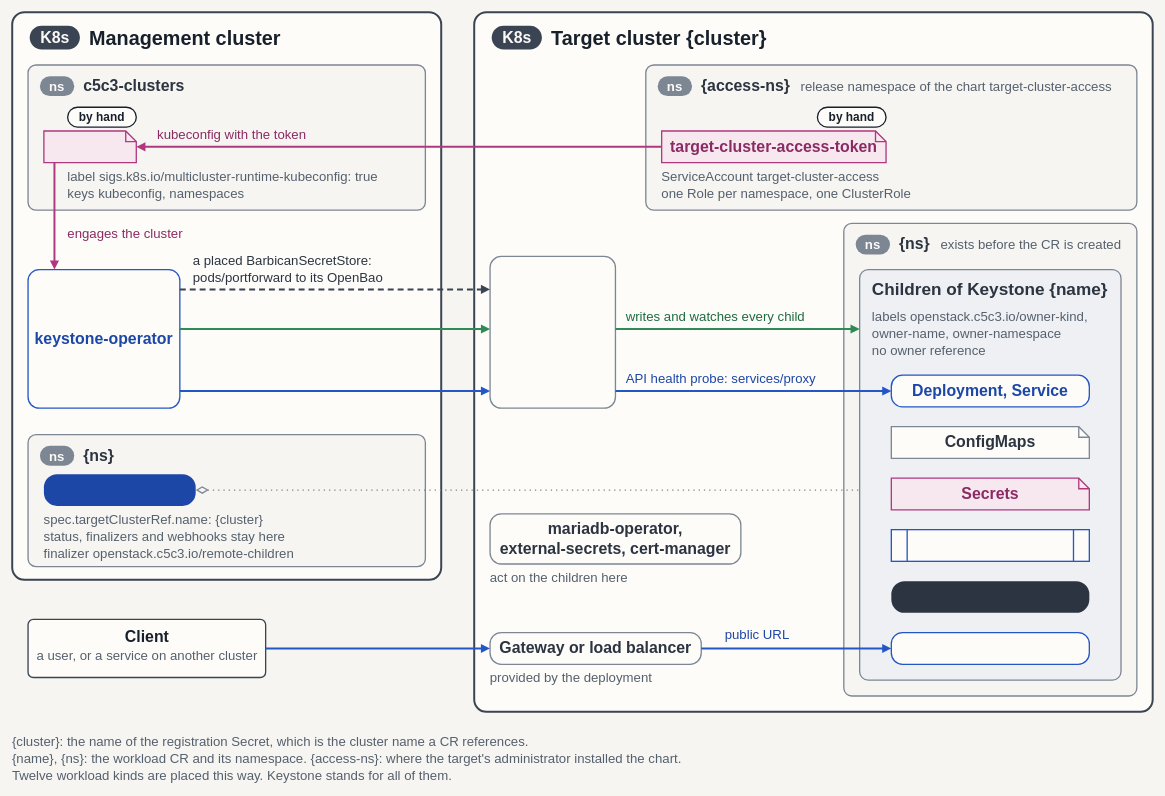
This 1165x796 diagram has some shape labels left out. Here are the shapes that lost their labels. From the top down, the centre of each, then its label:
At [90,146]: "{cluster}".
At [552,332]: "kube-apiserver".
At [119,490]: "Keystone {name}".
At [990,545]: "Jobs, CronJobs".
At [990,596]: "Database, User, Grant".
At [990,648]: "HTTPRoute".
